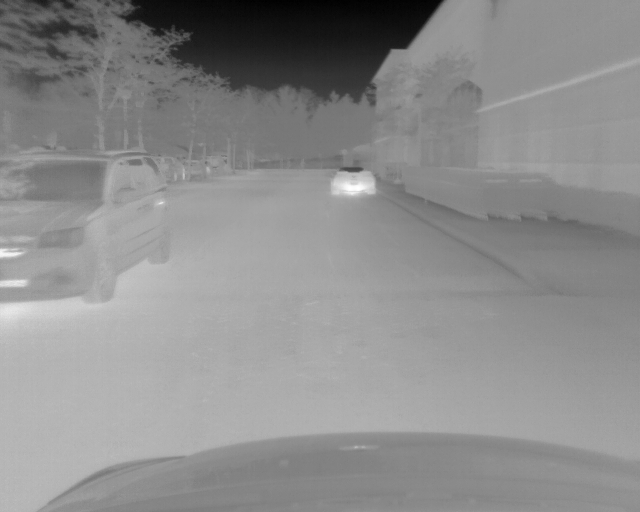car: (1, 148, 173, 304), (327, 165, 377, 200), (148, 153, 186, 181), (185, 160, 209, 181)
